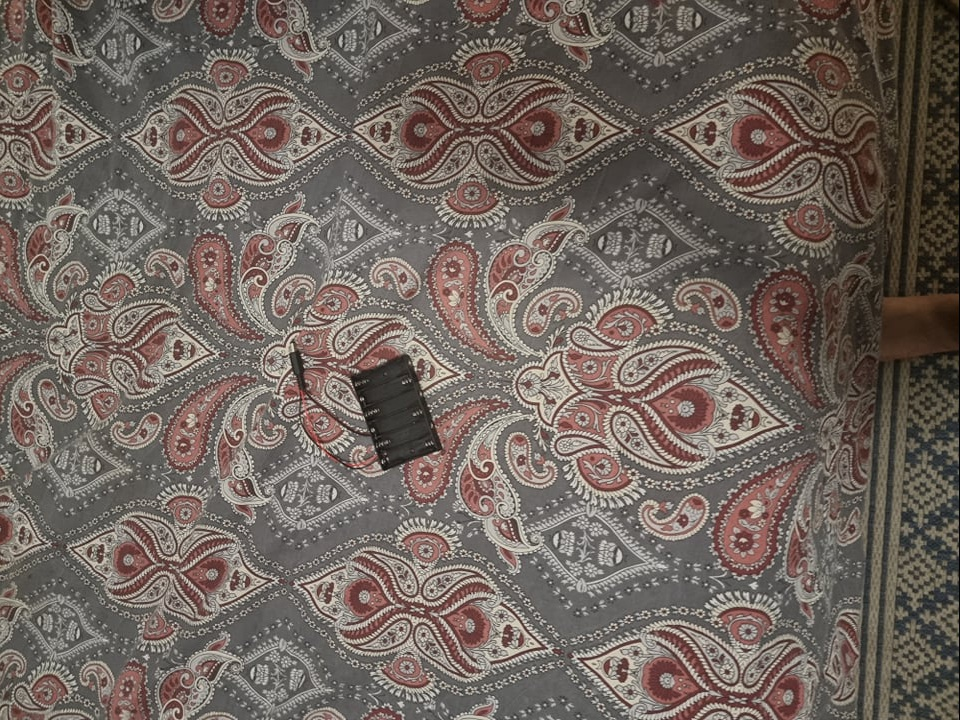BATTERY BOX: (344, 353, 447, 471)
